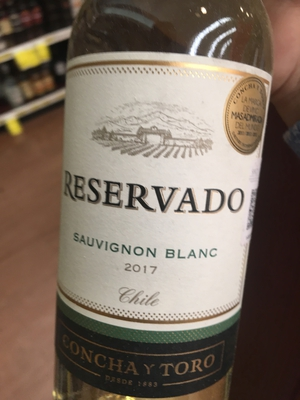reservado sauvignon blanc: (55, 3, 280, 400)
